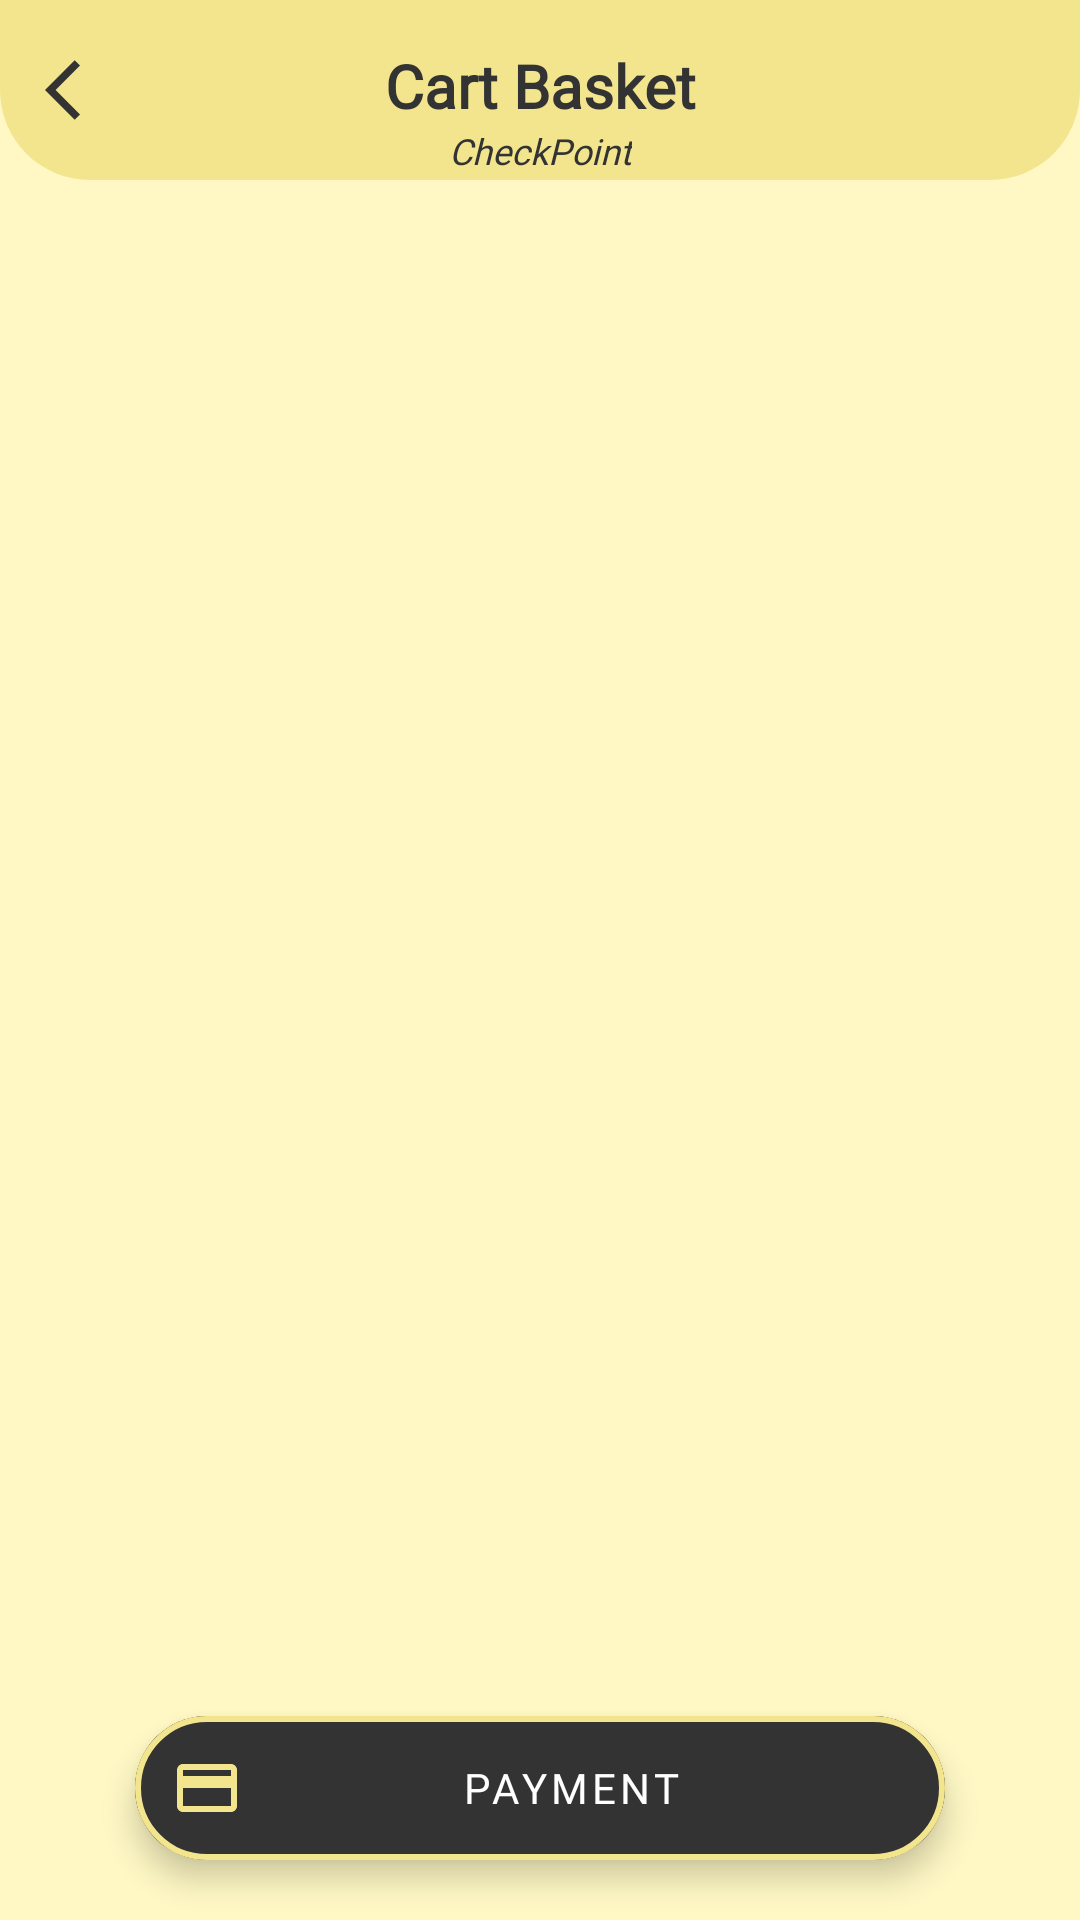

Where to tap for icons on this 1080px x 1920px app screen, as [x,y]:
arrow back: [62,90]
